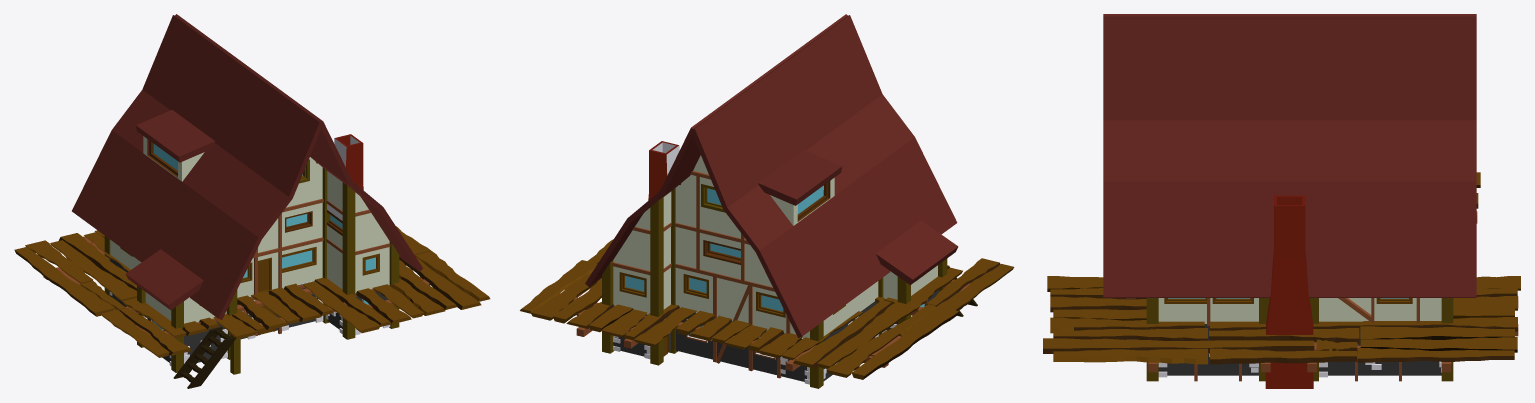
Rendered from huis.fbx.
3 renders of one model, left to right at view 1: azimuth 30°, elevation 25°; view 2: azimuth 150°, elevation 25°; view 3: azimuth 270°, elevation 25°, orthographic. The views are drawn at different scales.
Parts seen in each view (by area): view 1: Cube.073_Cube.004; view 2: Cube.073_Cube.004; view 3: Cube.073_Cube.004.
Boxes of the visible parts, x1,y1,x2,y2 form: Cube.073_Cube.004: [14, 14, 490, 388]; Cube.073_Cube.004: [520, 14, 1014, 388]; Cube.073_Cube.004: [1043, 14, 1520, 388].
Size of the model in its own units: 20.76 by 15.04 by 21.14.
